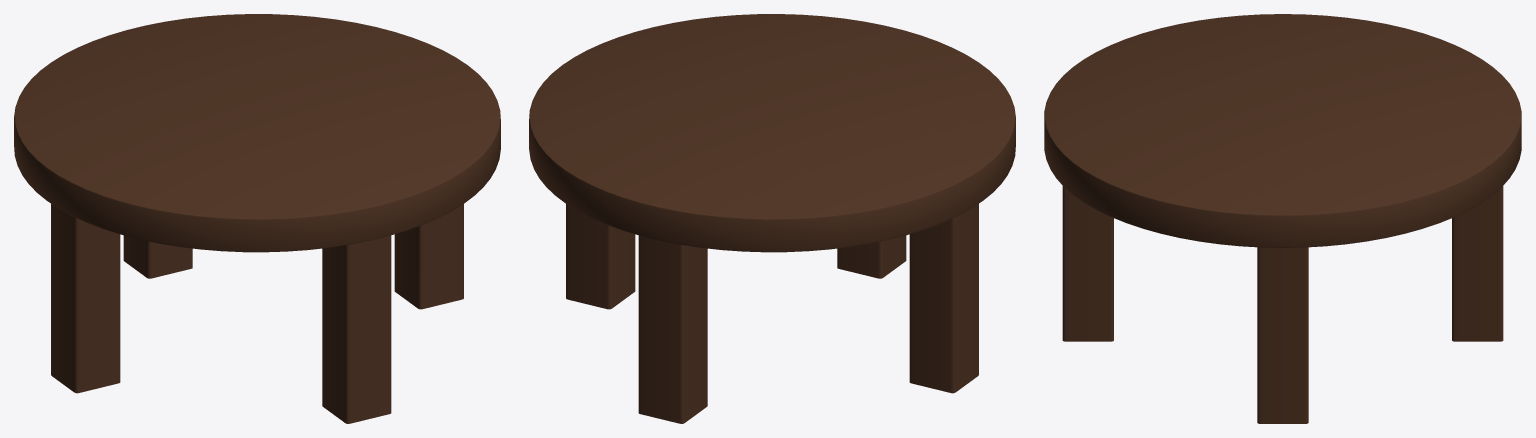
File: Dining_table.fbx
3 views of the same model, side by side, from view 1: azimuth 30°, elevation 25°; view 2: azimuth 150°, elevation 25°; view 3: azimuth 270°, elevation 25° (orthographic).
Parts seen in each view (by area): view 1: Dining_Table_starnick; view 2: Dining_Table_starnick; view 3: Dining_Table_starnick.
Boxes of the visible parts, bbox=[...] form: Dining_Table_starnick: bbox=[14, 14, 500, 423]; Dining_Table_starnick: bbox=[529, 14, 1015, 423]; Dining_Table_starnick: bbox=[1044, 14, 1521, 423].
Bounding box in the file's own units: 1300 × 1299 × 650.
